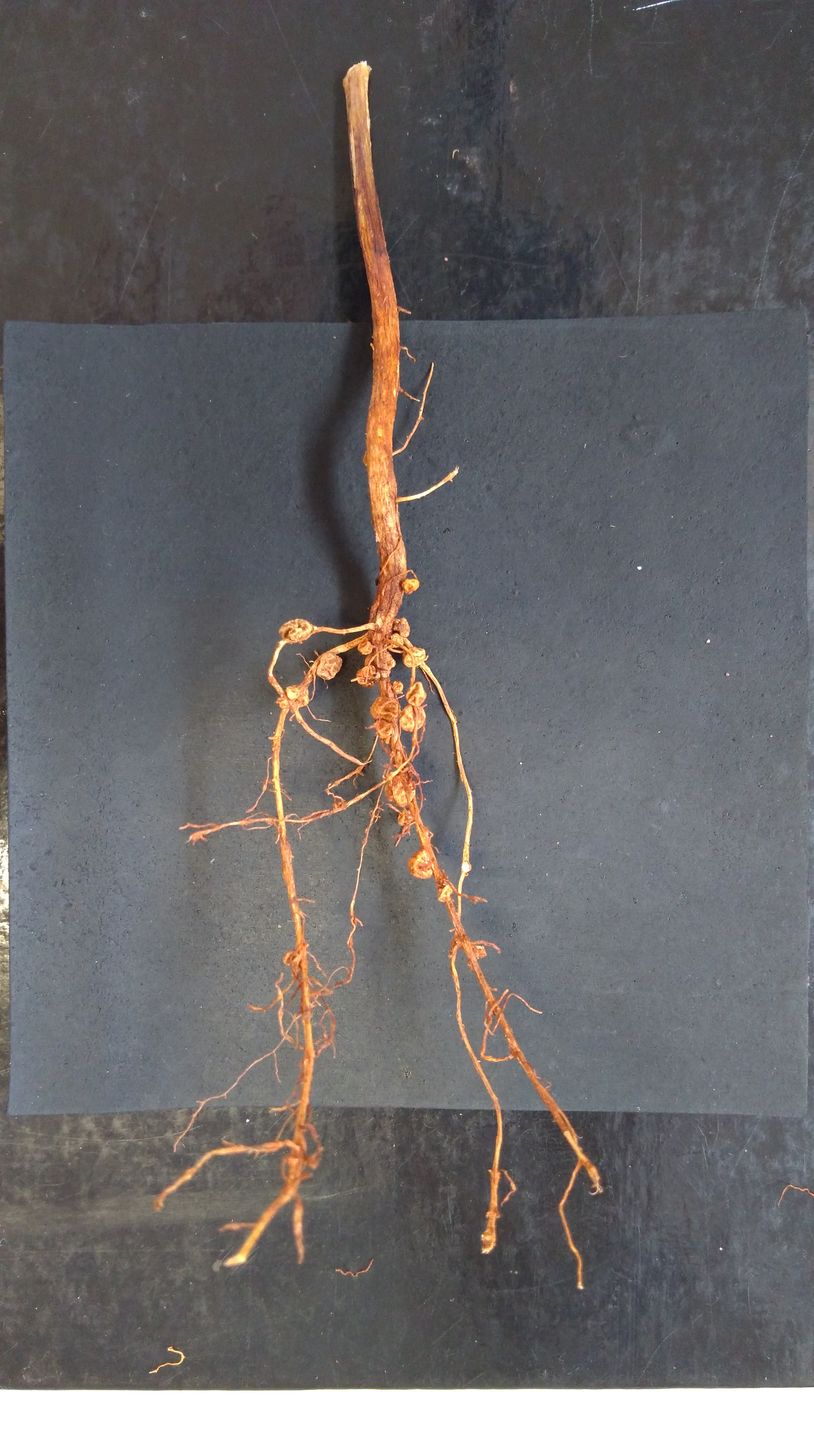nodule: (383, 770, 416, 809), (406, 847, 434, 880), (278, 617, 314, 642), (275, 686, 311, 711), (314, 652, 344, 681), (398, 704, 427, 733), (369, 695, 399, 723), (362, 651, 397, 671), (405, 681, 428, 707), (401, 646, 427, 668), (355, 664, 377, 688), (372, 718, 394, 739), (392, 617, 411, 638), (400, 578, 421, 596), (437, 883, 454, 903), (281, 950, 302, 966), (356, 639, 374, 655), (471, 944, 488, 960), (284, 685, 300, 700), (390, 632, 404, 649), (391, 680, 404, 695), (396, 809, 406, 827), (460, 860, 472, 873)
